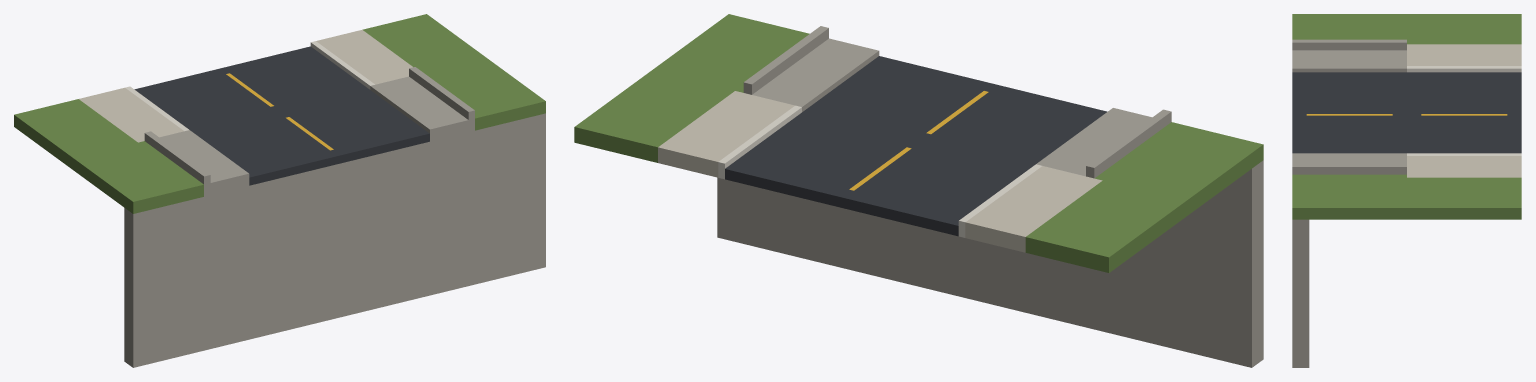
File: Bridge_Approach_2Lane_Sidewalk_8m.glb
3 renders of one model, left to right at view 1: azimuth 30°, elevation 25°; view 2: azimuth 150°, elevation 25°; view 3: azimuth 270°, elevation 25°, orthographic. The views are drawn at different scales.
Visible parts, largest first — view 1: Bridge_Approach_2Lane_Sidewalk_8m_Concrete, Bridge_Approach_2Lane_Sidewalk_8m_Asphalt, Bridge_Approach_2Lane_Sidewalk_8m_Grass-edge, Bridge_Approach_2Lane_Sidewalk_8m_Sidewalk, Bridge_Approach_2Lane_Sidewalk_8m_Curb; view 2: Bridge_Approach_2Lane_Sidewalk_8m_Concrete, Bridge_Approach_2Lane_Sidewalk_8m_Asphalt, Bridge_Approach_2Lane_Sidewalk_8m_Grass-edge, Bridge_Approach_2Lane_Sidewalk_8m_Sidewalk, Bridge_Approach_2Lane_Sidewalk_8m_Curb, Bridge_Approach_2Lane_Sidewalk_8m_PaintYellow; view 3: Bridge_Approach_2Lane_Sidewalk_8m_Asphalt, Bridge_Approach_2Lane_Sidewalk_8m_Grass-edge, Bridge_Approach_2Lane_Sidewalk_8m_Concrete, Bridge_Approach_2Lane_Sidewalk_8m_Sidewalk, Bridge_Approach_2Lane_Sidewalk_8m_Curb, Bridge_Approach_2Lane_Sidewalk_8m_PaintYellow.
Part boxes in pixels (x1=…): Bridge_Approach_2Lane_Sidewalk_8m_Concrete: x1=124, y1=67, x2=545, y2=367; Bridge_Approach_2Lane_Sidewalk_8m_Asphalt: x1=134, y1=46, x2=429, y2=185; Bridge_Approach_2Lane_Sidewalk_8m_Grass-edge: x1=14, y1=14, x2=545, y2=213; Bridge_Approach_2Lane_Sidewalk_8m_Sidewalk: x1=79, y1=30, x2=412, y2=142; Bridge_Approach_2Lane_Sidewalk_8m_Curb: x1=125, y1=41, x2=374, y2=131; Bridge_Approach_2Lane_Sidewalk_8m_Concrete: x1=717, y1=26, x2=1263, y2=367; Bridge_Approach_2Lane_Sidewalk_8m_Asphalt: x1=725, y1=56, x2=1107, y2=236; Bridge_Approach_2Lane_Sidewalk_8m_Grass-edge: x1=574, y1=14, x2=1263, y2=272; Bridge_Approach_2Lane_Sidewalk_8m_Sidewalk: x1=658, y1=91, x2=1102, y2=252; Bridge_Approach_2Lane_Sidewalk_8m_Curb: x1=718, y1=105, x2=1041, y2=237; Bridge_Approach_2Lane_Sidewalk_8m_PaintYellow: x1=849, y1=91, x2=988, y2=190; Bridge_Approach_2Lane_Sidewalk_8m_Asphalt: x1=1292, y1=72, x2=1521, y2=153; Bridge_Approach_2Lane_Sidewalk_8m_Grass-edge: x1=1292, y1=14, x2=1521, y2=219; Bridge_Approach_2Lane_Sidewalk_8m_Concrete: x1=1292, y1=39, x2=1406, y2=367; Bridge_Approach_2Lane_Sidewalk_8m_Sidewalk: x1=1407, y1=44, x2=1521, y2=177; Bridge_Approach_2Lane_Sidewalk_8m_Curb: x1=1407, y1=66, x2=1521, y2=155; Bridge_Approach_2Lane_Sidewalk_8m_PaintYellow: x1=1306, y1=114, x2=1507, y2=115.
Bounding box in the file's own units: 16 × 6.45 × 8.
